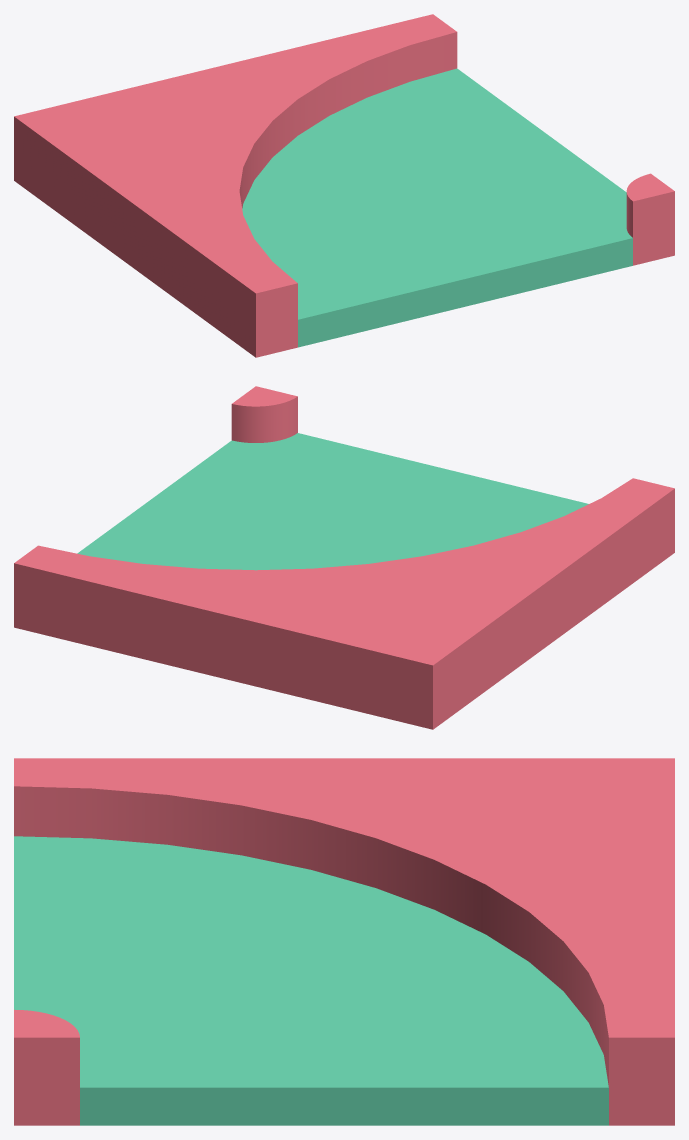
The model's file is roundCornerB.glb.
3 views of the same model, one above another, from view 1: azimuth 30°, elevation 25°; view 2: azimuth 150°, elevation 25°; view 3: azimuth 270°, elevation 25° (orthographic). The views are drawn at different scales.
Parts seen in each view (by area): view 1: roundCornerB; view 2: roundCornerB; view 3: roundCornerB.
Boxes of the visible parts, x1,y1,x2,y2 form: roundCornerB: (14, 14, 674, 357); roundCornerB: (14, 386, 674, 729); roundCornerB: (14, 758, 674, 1125).
Size of the model in its own units: 0.9999 by 0.1467 by 0.9999.
